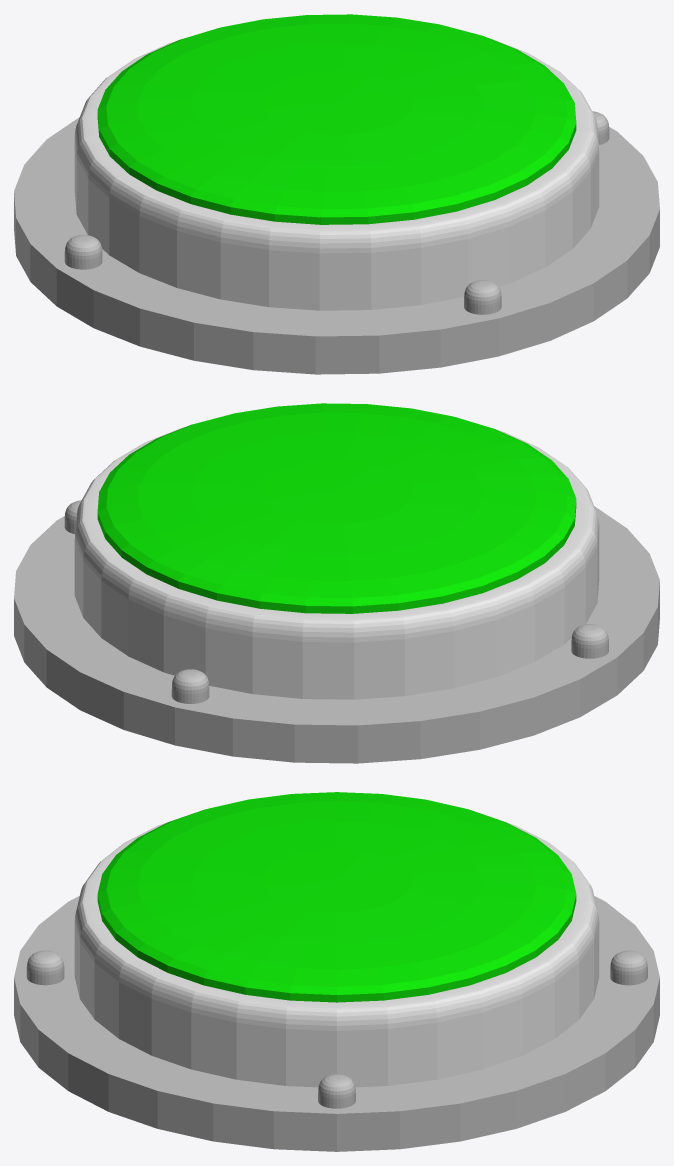
Rendered from Button.fbx.
3 views of the same model, one above another, from view 1: azimuth 30°, elevation 25°; view 2: azimuth 150°, elevation 25°; view 3: azimuth 270°, elevation 25° (orthographic).
Visible parts, largest first — view 1: Cylinder; view 2: Cylinder; view 3: Cylinder.
Boxes of the visible parts, box(x1,y1,x2,y2) form: Cylinder: box(14, 14, 659, 374); Cylinder: box(14, 403, 659, 763); Cylinder: box(14, 792, 659, 1151).
Size of the model in its own units: 1540 by 356 by 1540.
